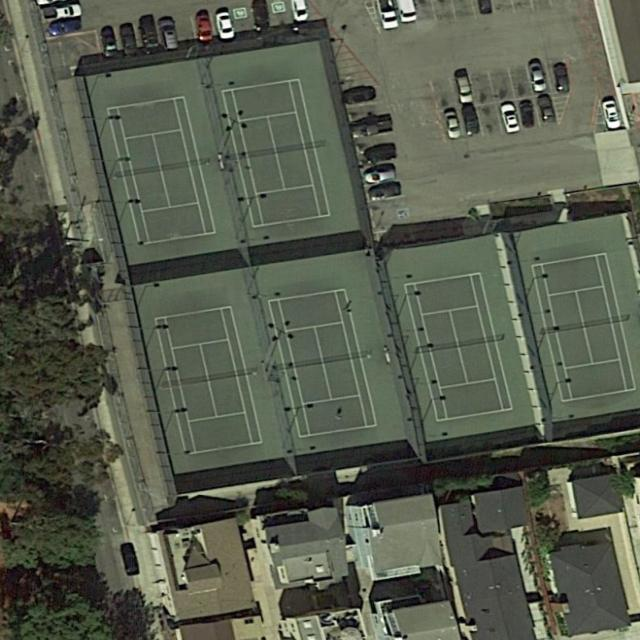small-vehicle: (348, 117, 395, 142), (42, 3, 84, 22), (341, 86, 380, 106), (120, 542, 142, 577), (359, 147, 401, 165), (139, 22, 160, 56), (500, 102, 521, 135), (47, 18, 83, 37), (528, 62, 549, 94), (215, 11, 237, 41), (551, 65, 573, 95), (602, 100, 623, 131), (368, 184, 403, 202), (118, 26, 138, 57), (461, 106, 482, 135), (160, 19, 179, 50), (363, 168, 397, 185), (100, 27, 118, 59), (455, 75, 474, 104), (537, 96, 556, 124), (444, 111, 462, 140), (196, 15, 213, 43), (519, 101, 536, 128)
